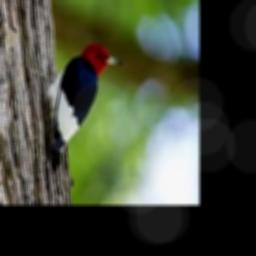Woodpecker: (36, 43, 123, 173)
